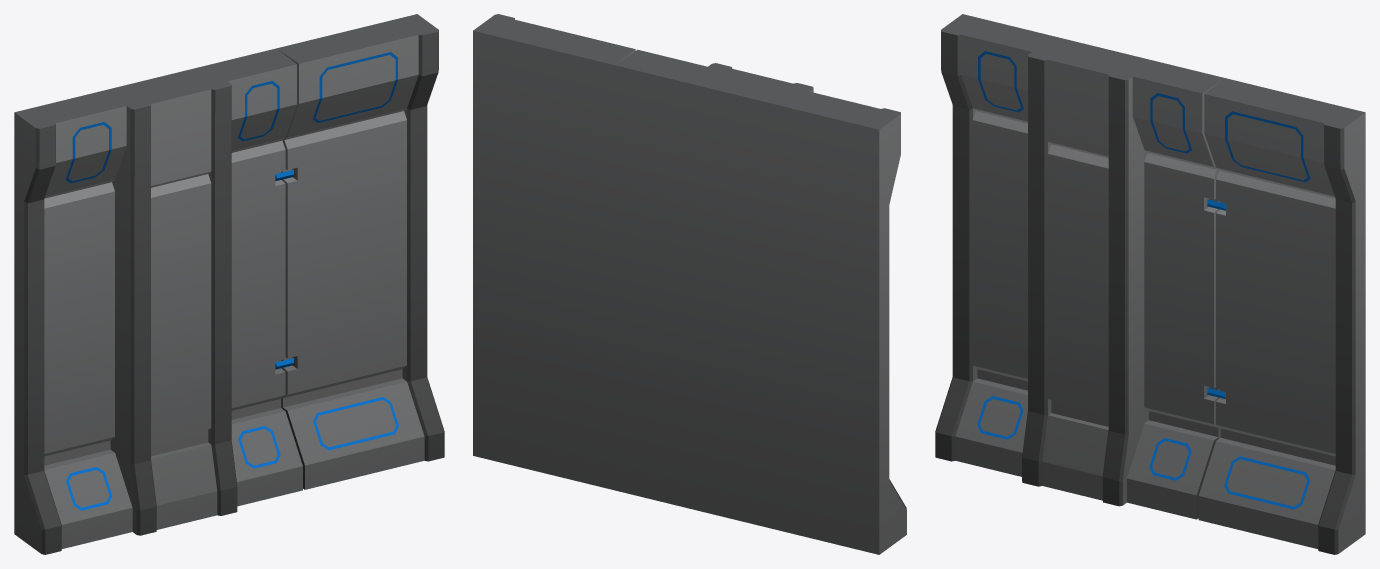
File: Wall_type_B_048.fbx
The picture shows the model from 3 angles, left to right: view 1: azimuth 30°, elevation 25°; view 2: azimuth 150°, elevation 25°; view 3: azimuth 330°, elevation 25°; orthographic projection.
Parts seen in each view (by area): view 1: Wall_type_B_048; view 2: Wall_type_B_048; view 3: Wall_type_B_048.
Part boxes in pixels (x1,y1,x2,y2): Wall_type_B_048: (14, 14, 444, 554); Wall_type_B_048: (473, 14, 906, 554); Wall_type_B_048: (935, 14, 1365, 554).
Size of the model in its own units: 400 by 57 by 400.
